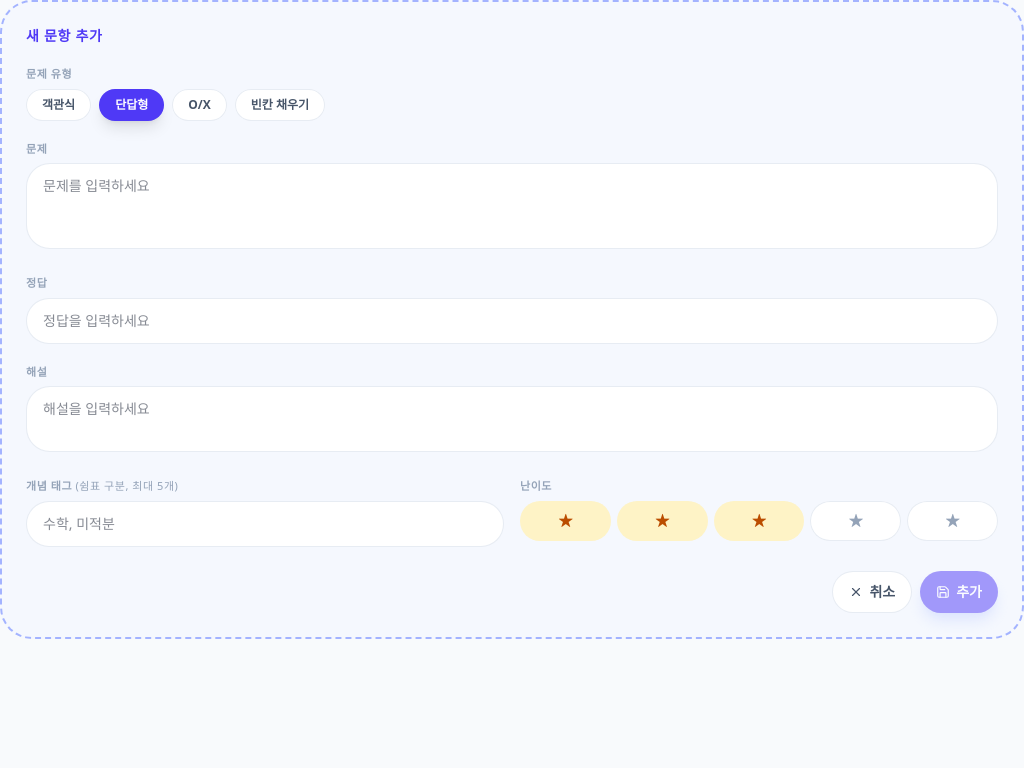
Test: QuizItemCreateForm › shows O/X buttons when O/X type is selected
The image size is (1024, 768).
What coordinates should you click on to do the following:
click the button "O/X"
I would click on:
 (200, 104)
Its box is top-left (172, 88), bottom-right (227, 120).
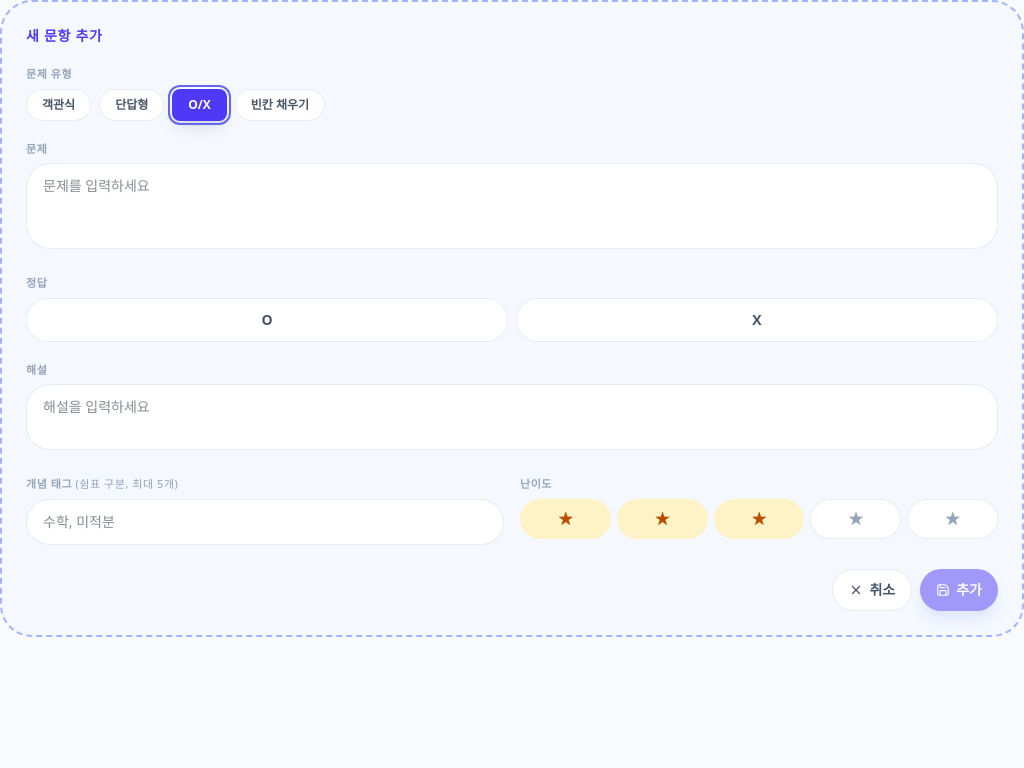
Now the button "O" is shown, box top-left (26, 298), bottom-right (508, 342)
Now the button "X" is shown, box top-left (516, 298), bottom-right (998, 342)
